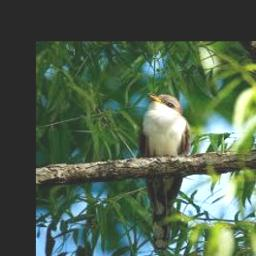Cuckoo: (140, 92, 191, 251)
